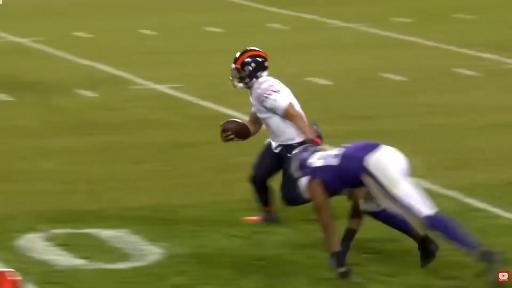Helmet: (231, 48, 268, 88), (290, 145, 320, 178)
Jersey: (299, 142, 381, 196), (250, 76, 305, 145)
Player: (291, 142, 499, 281), (231, 48, 321, 222), (342, 202, 438, 267)
